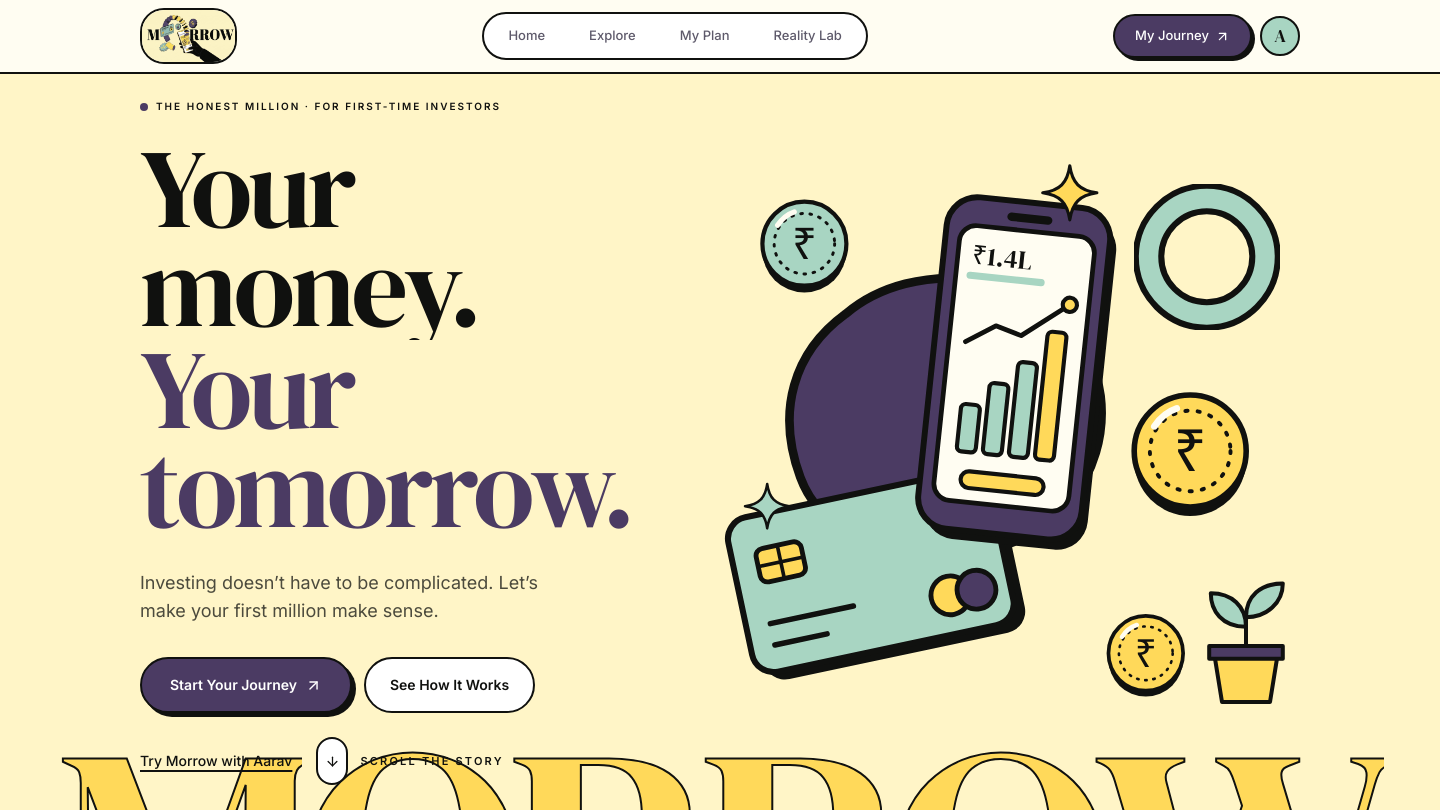
Scenario: Morrow landing story › starts the journey from the hero
What coordinates should you click on to do the following:
click the link "Start Your Journey"
I would click on:
 (246, 685)
Its box is [140,657,352,713].
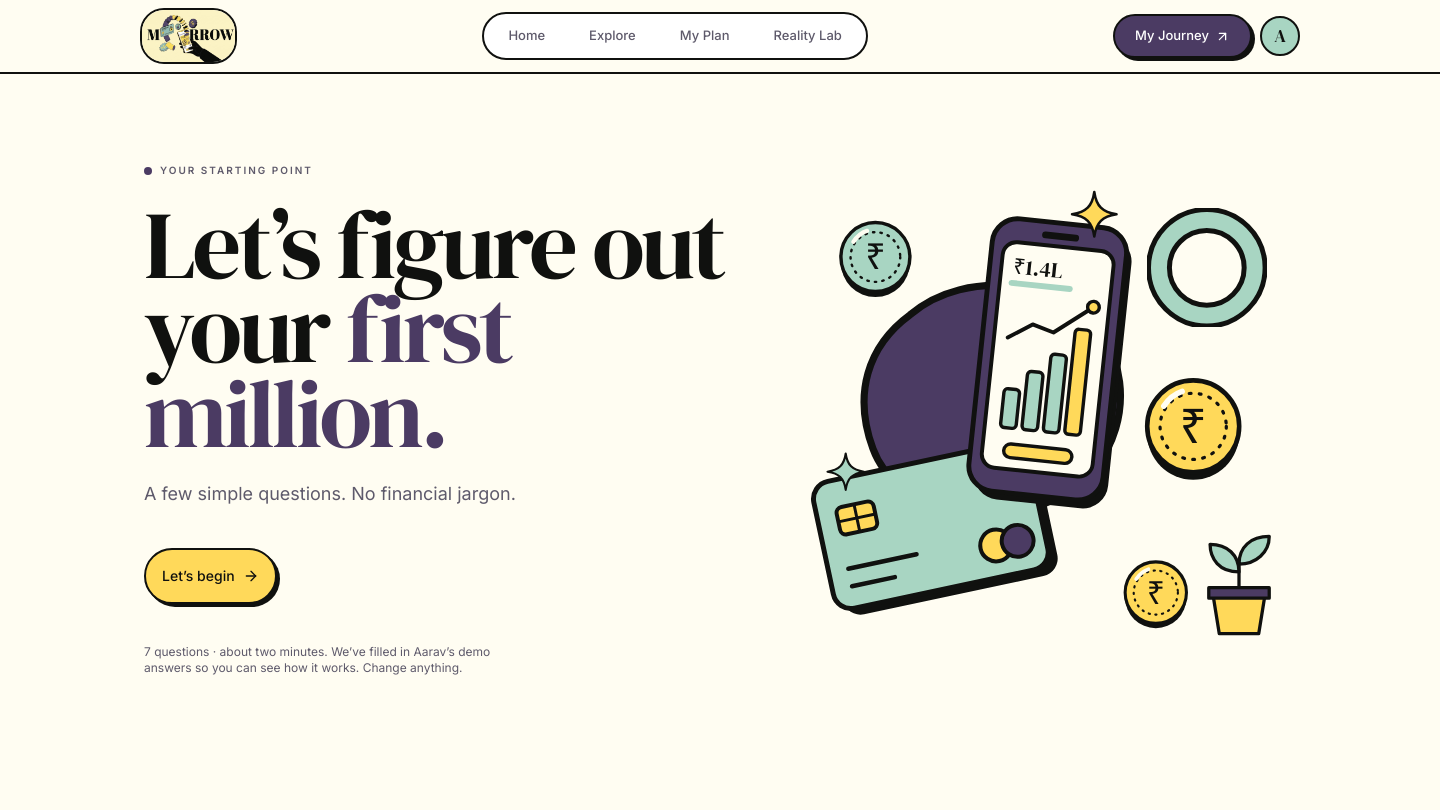
Expected: the heading "Let’s figure out your first million." is shown, [144,203,756,456]
